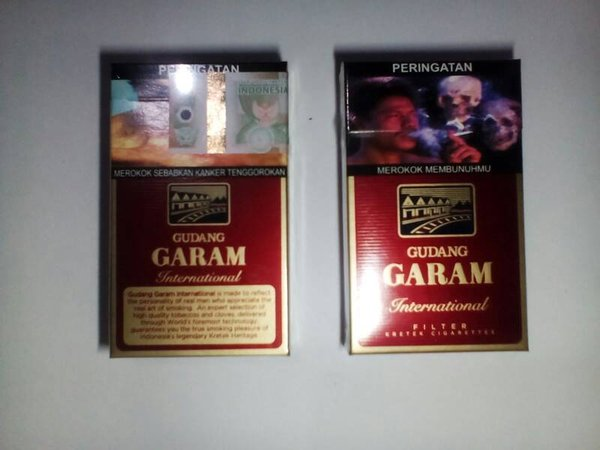garam filter: (341, 47, 546, 372), (101, 50, 299, 355)
